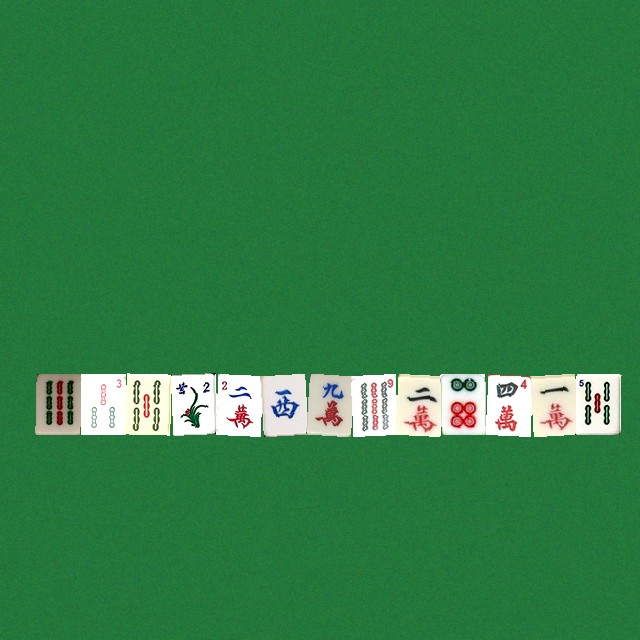tile: (35, 373, 80, 434), (80, 373, 125, 434), (125, 373, 170, 434), (170, 373, 215, 434), (215, 373, 260, 434), (260, 373, 305, 434), (305, 373, 350, 434), (350, 373, 395, 434), (395, 373, 440, 434), (440, 373, 485, 434), (485, 373, 530, 434), (530, 373, 575, 434), (575, 373, 620, 434)
